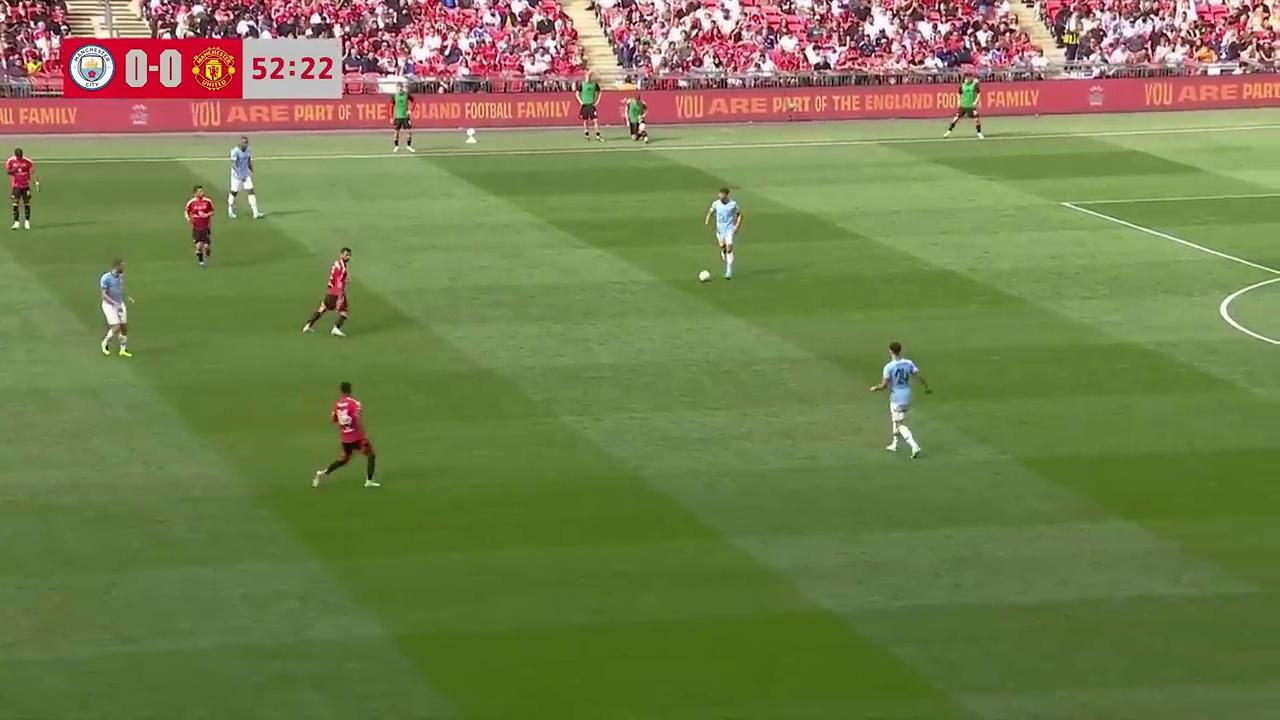ball: (697, 267, 711, 284)
player: (868, 341, 933, 457), (312, 382, 381, 490), (301, 248, 352, 336), (98, 258, 134, 356), (705, 188, 742, 280), (4, 148, 39, 231), (227, 136, 262, 219), (184, 184, 214, 267)
